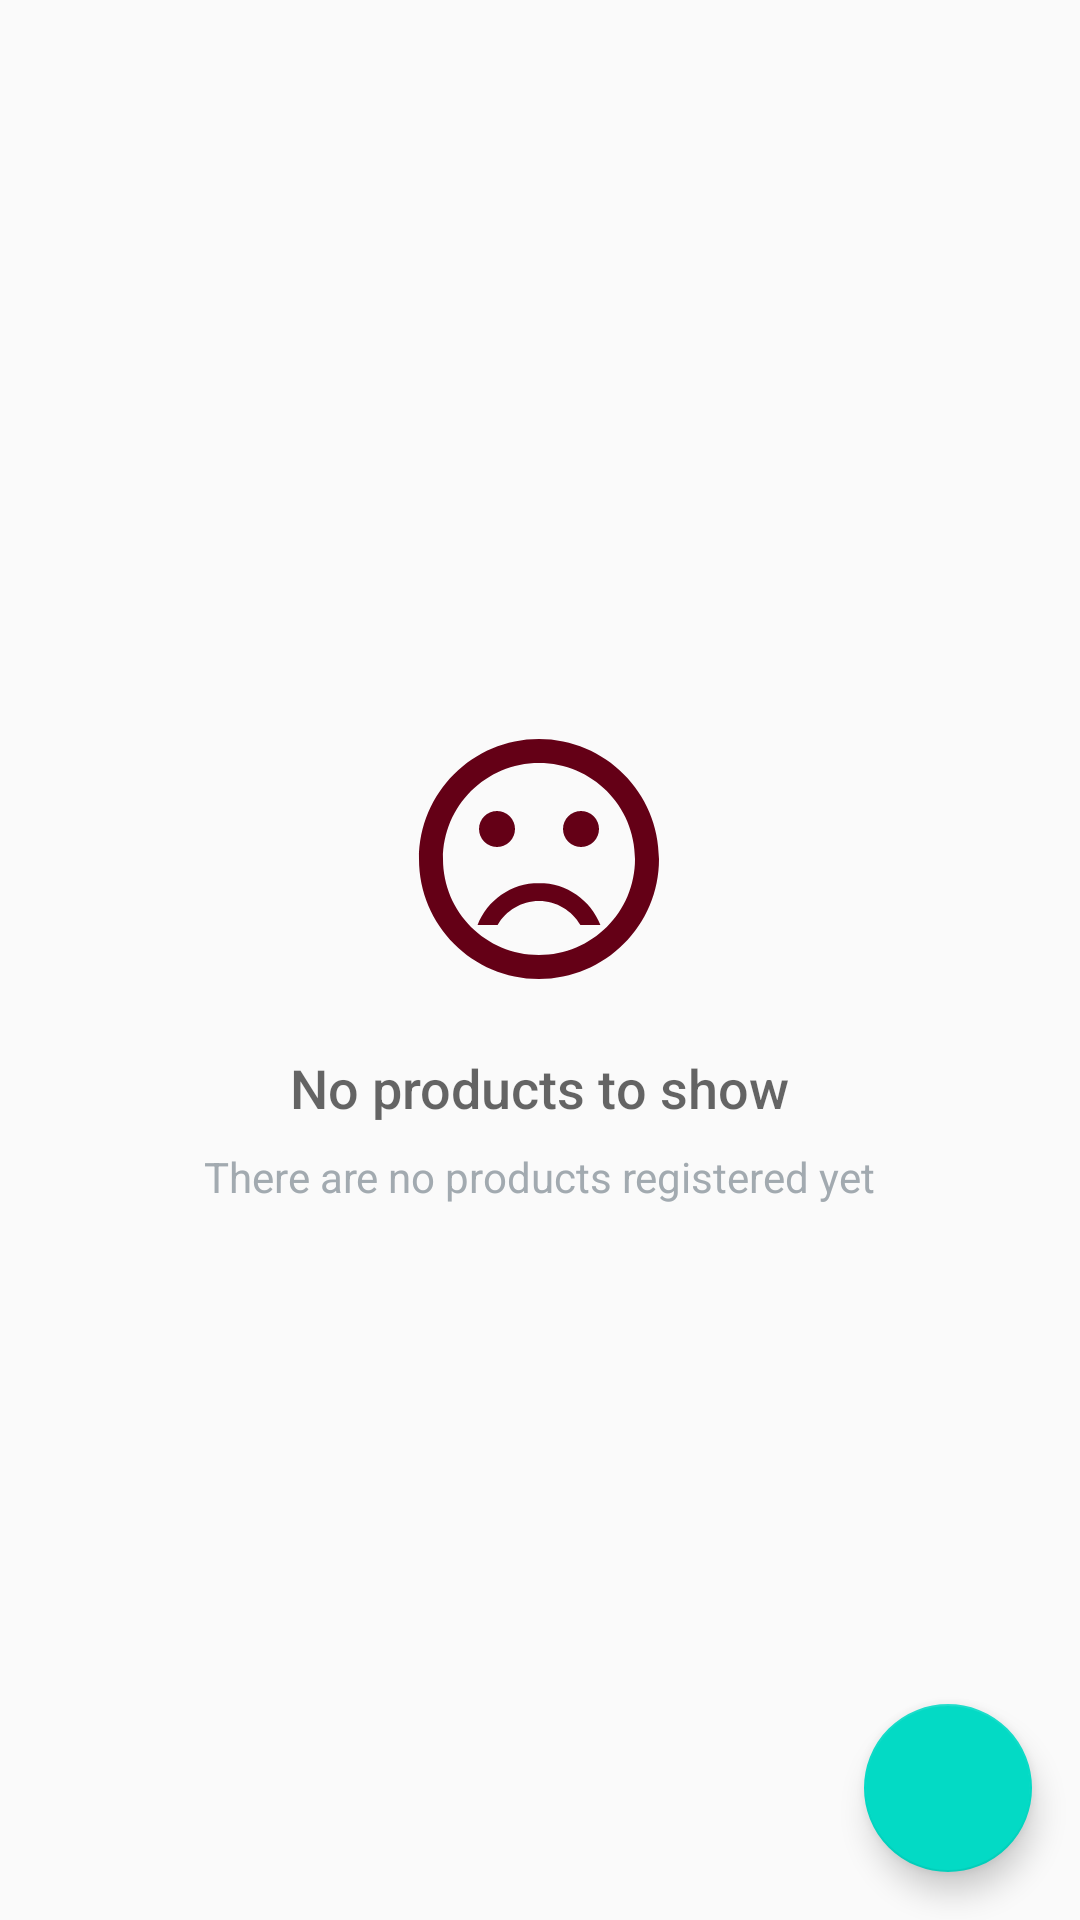

Icons on this 1080 x 1920 Android screen, each with the point to tap as (x,y):
sentiment dissatisfied: (539,859)
